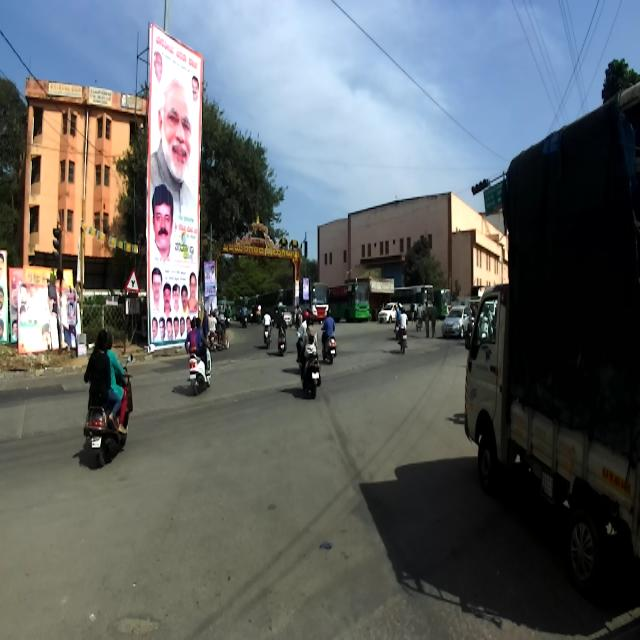car ahead at: (460, 100, 640, 566)
motorcycle ahead at: (76, 320, 138, 482), (182, 313, 215, 401)
